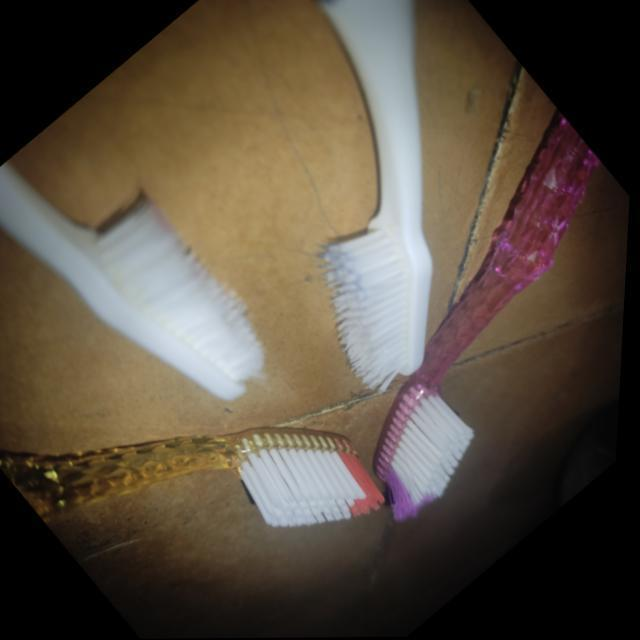toothbrush: (0, 0, 236, 126), (0, 0, 460, 54), (0, 400, 536, 430)
